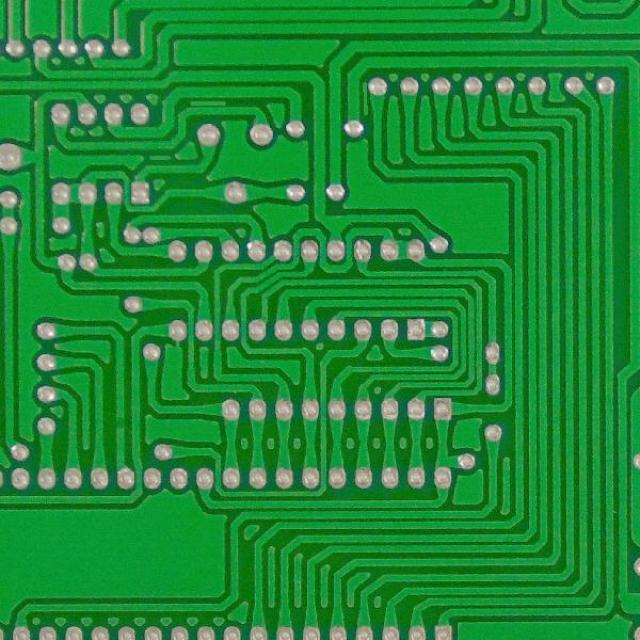Spurious_Cooper: (186, 96, 229, 108), (147, 152, 173, 164)
